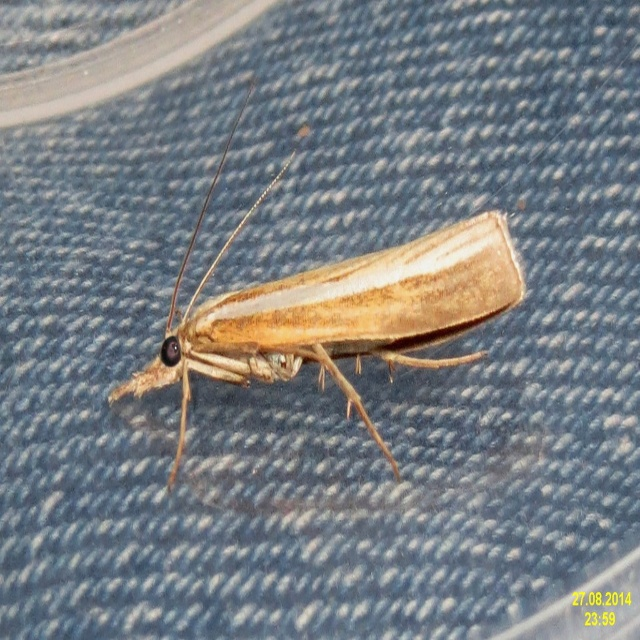Moths and butterflies: (105, 73, 525, 501)
